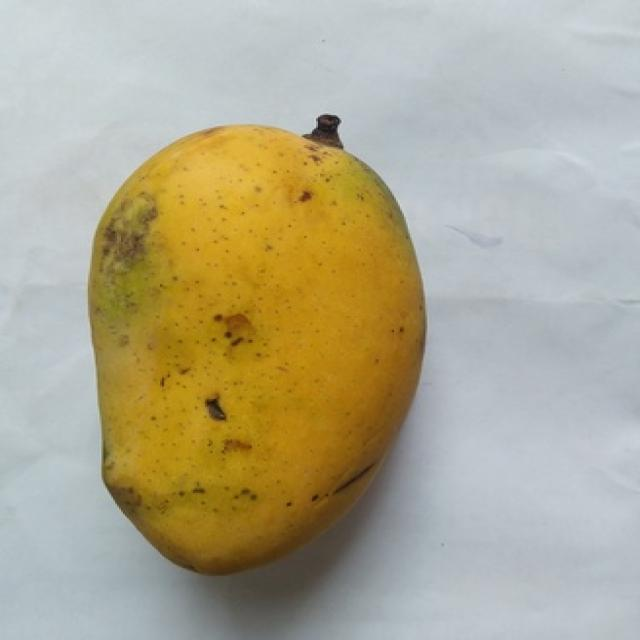Mango: (88, 126, 423, 573)
